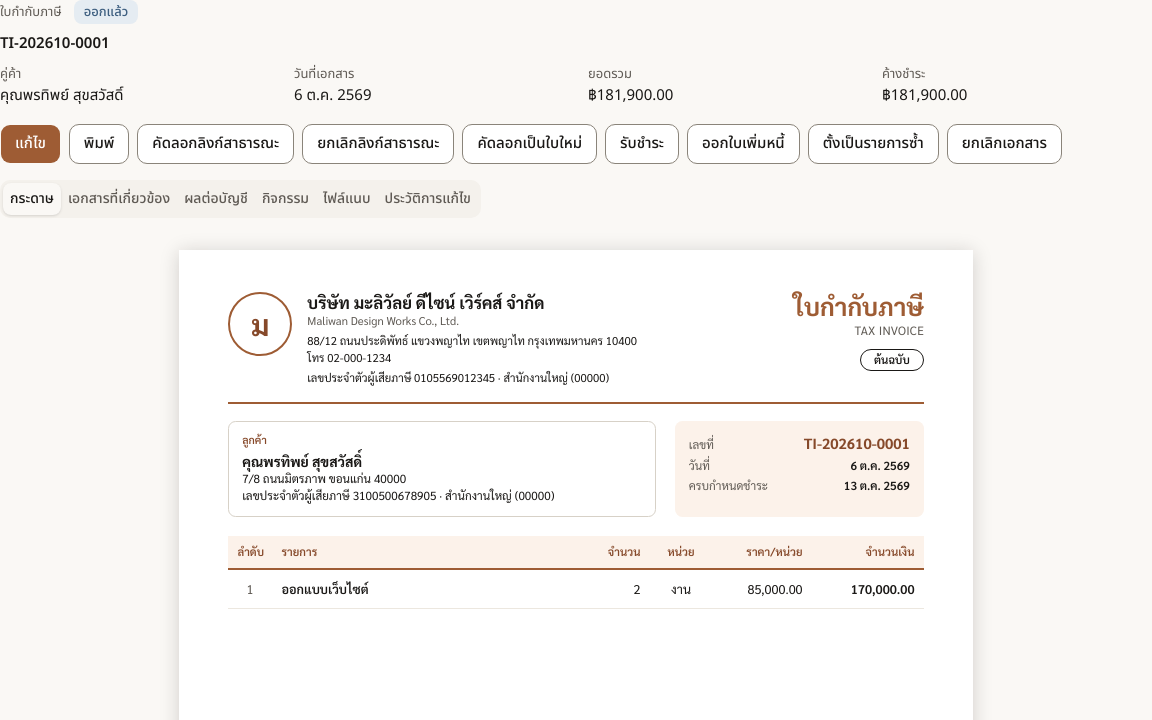
Test: DocView › cancel needs a reason code
This screenshot has width=1152, height=720.
Click the button "ยกเลิกเอกสาร" at (1004, 144), box [947,124,1062,164]
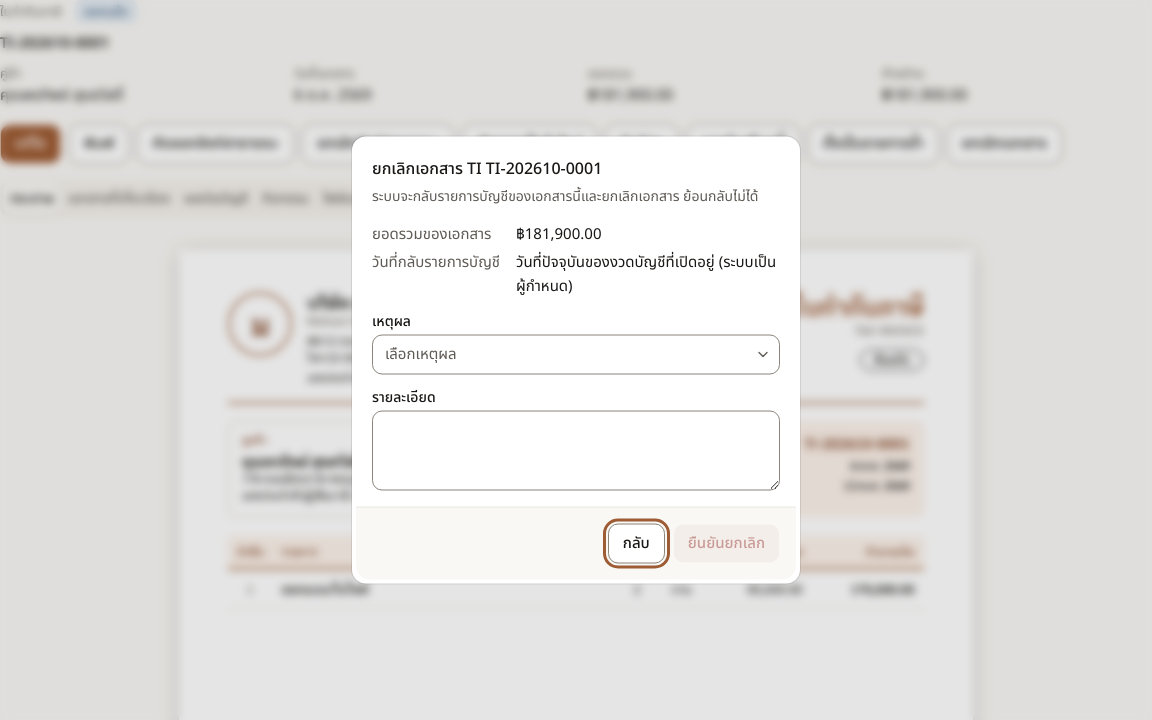
Check: the button "ยืนยันยกเลิก" is disabled, box [673,524,780,564]
